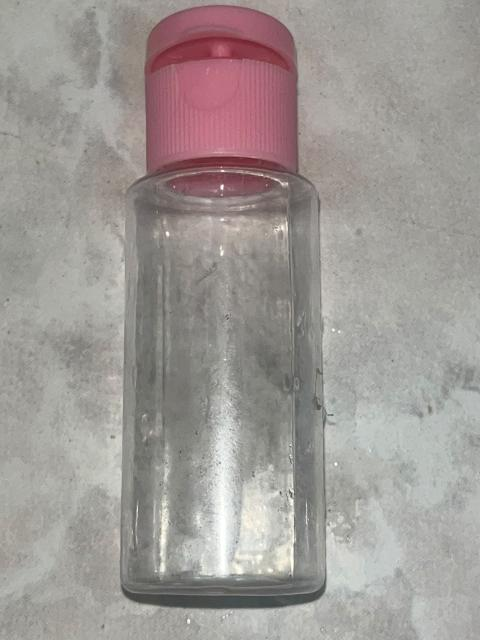PET: (105, 8, 367, 614)
